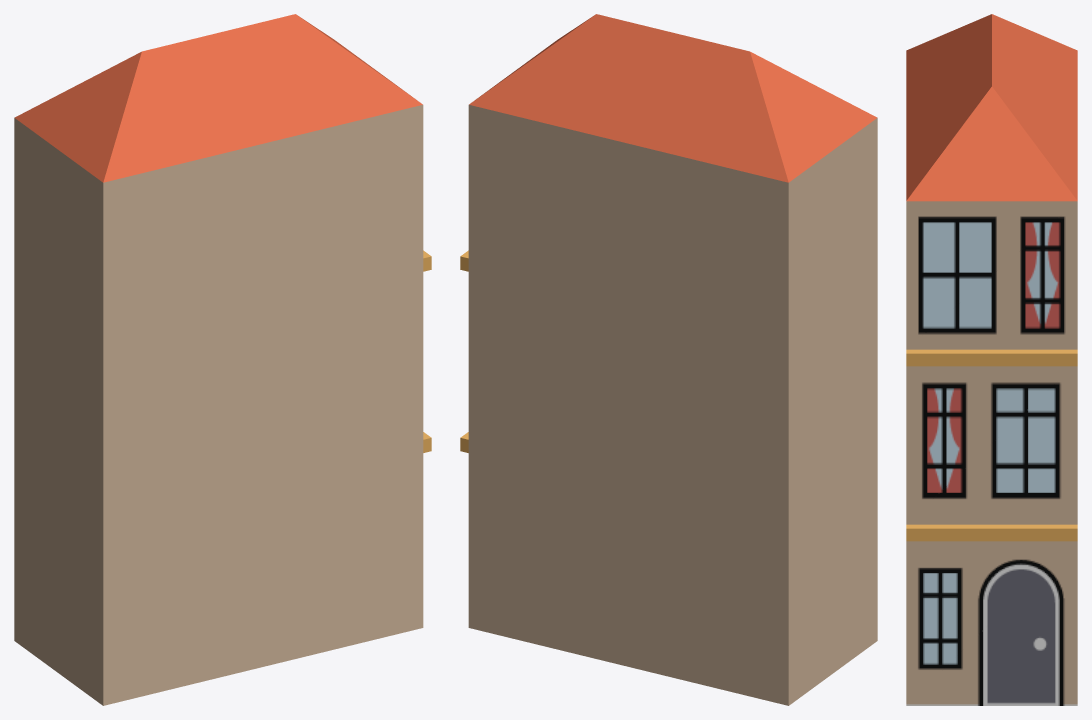
The model's file is StandaardHuis_Var3.fbx.
3 renders of one model, left to right at view 1: azimuth 30°, elevation 25°; view 2: azimuth 150°, elevation 25°; view 3: azimuth 270°, elevation 25°, orthographic. The views are drawn at different scales.
Visible parts, largest first — view 1: StandaardHuis_Var3; view 2: StandaardHuis_Var3; view 3: StandaardHuis_Var3.
Part boxes in pixels (box(x1,y1,x2,y2)): StandaardHuis_Var3: box(14, 14, 431, 705); StandaardHuis_Var3: box(460, 14, 877, 705); StandaardHuis_Var3: box(906, 14, 1077, 705).
Bounding box in the file's own units: 82.11 × 144 × 38.49.
Materials: 1 (1 with a texture image).
